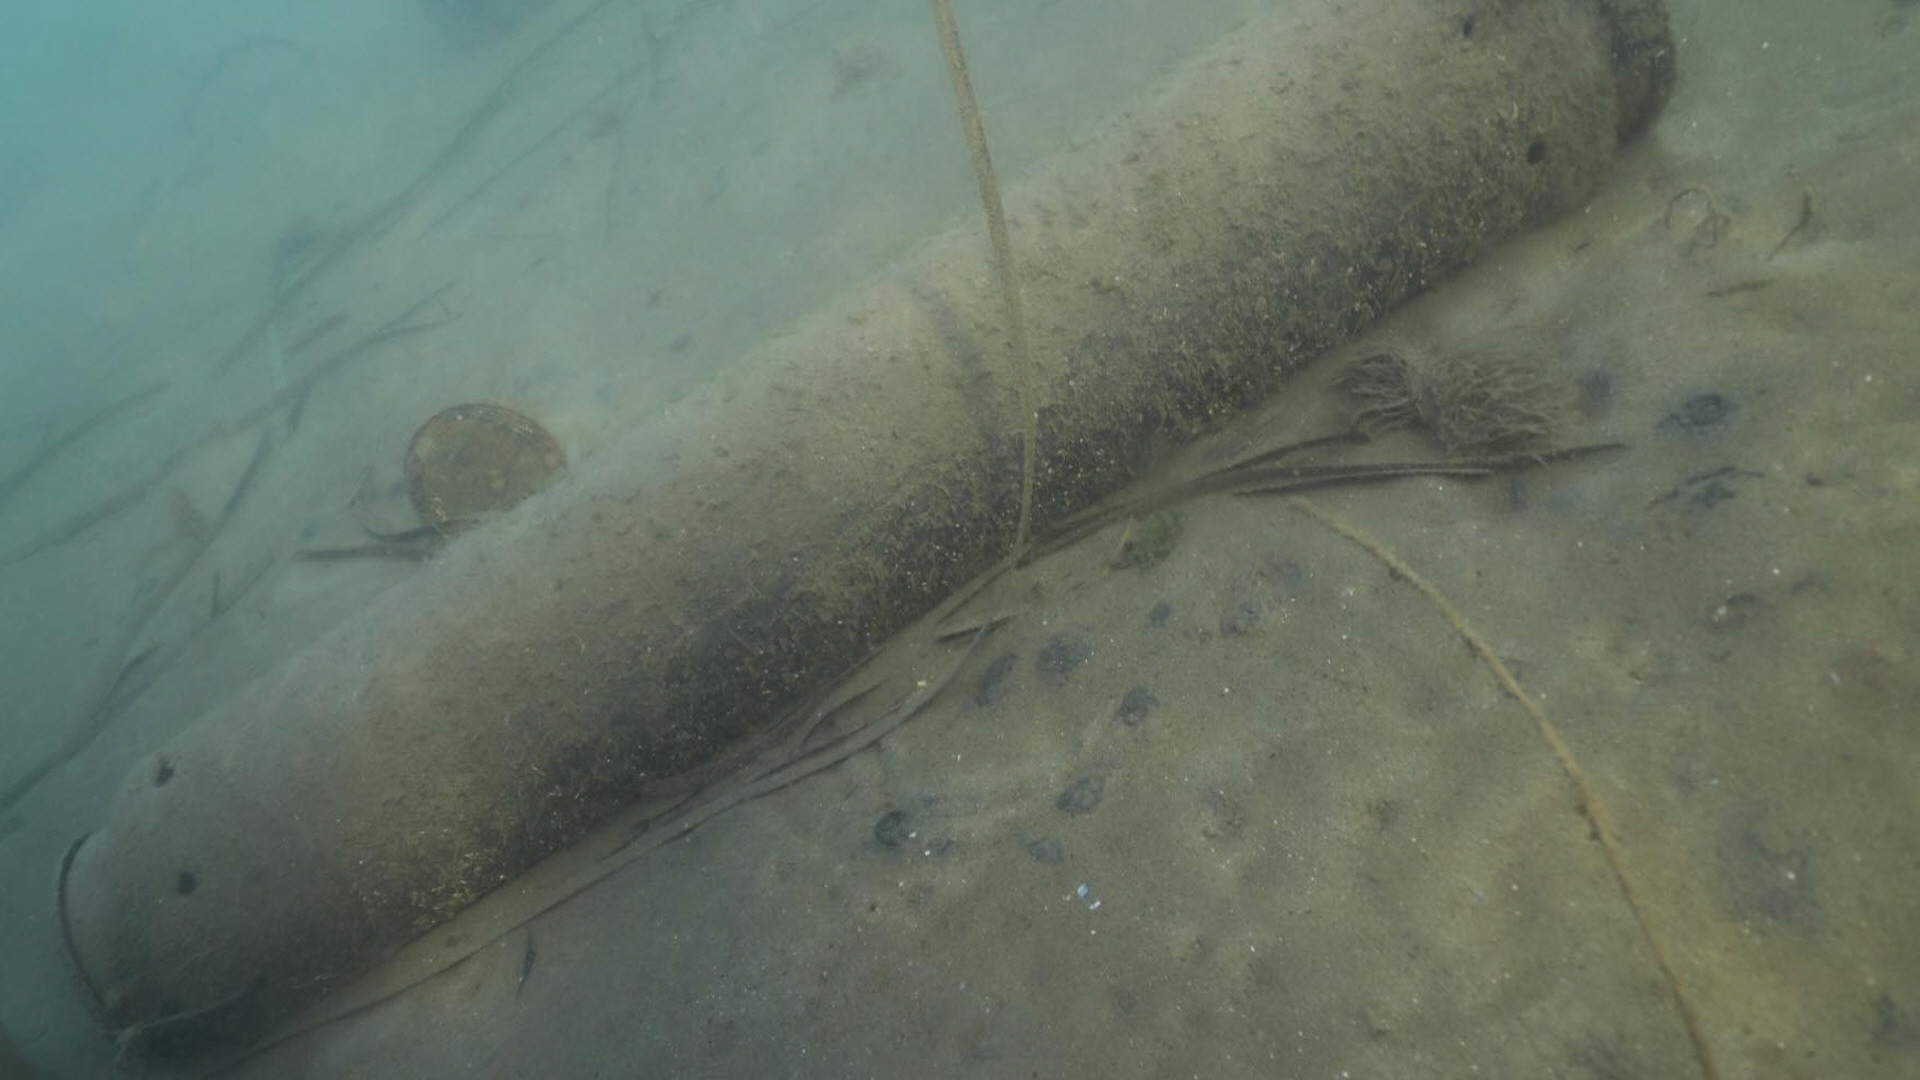eel fish trap: (50, 0, 1672, 1058)
